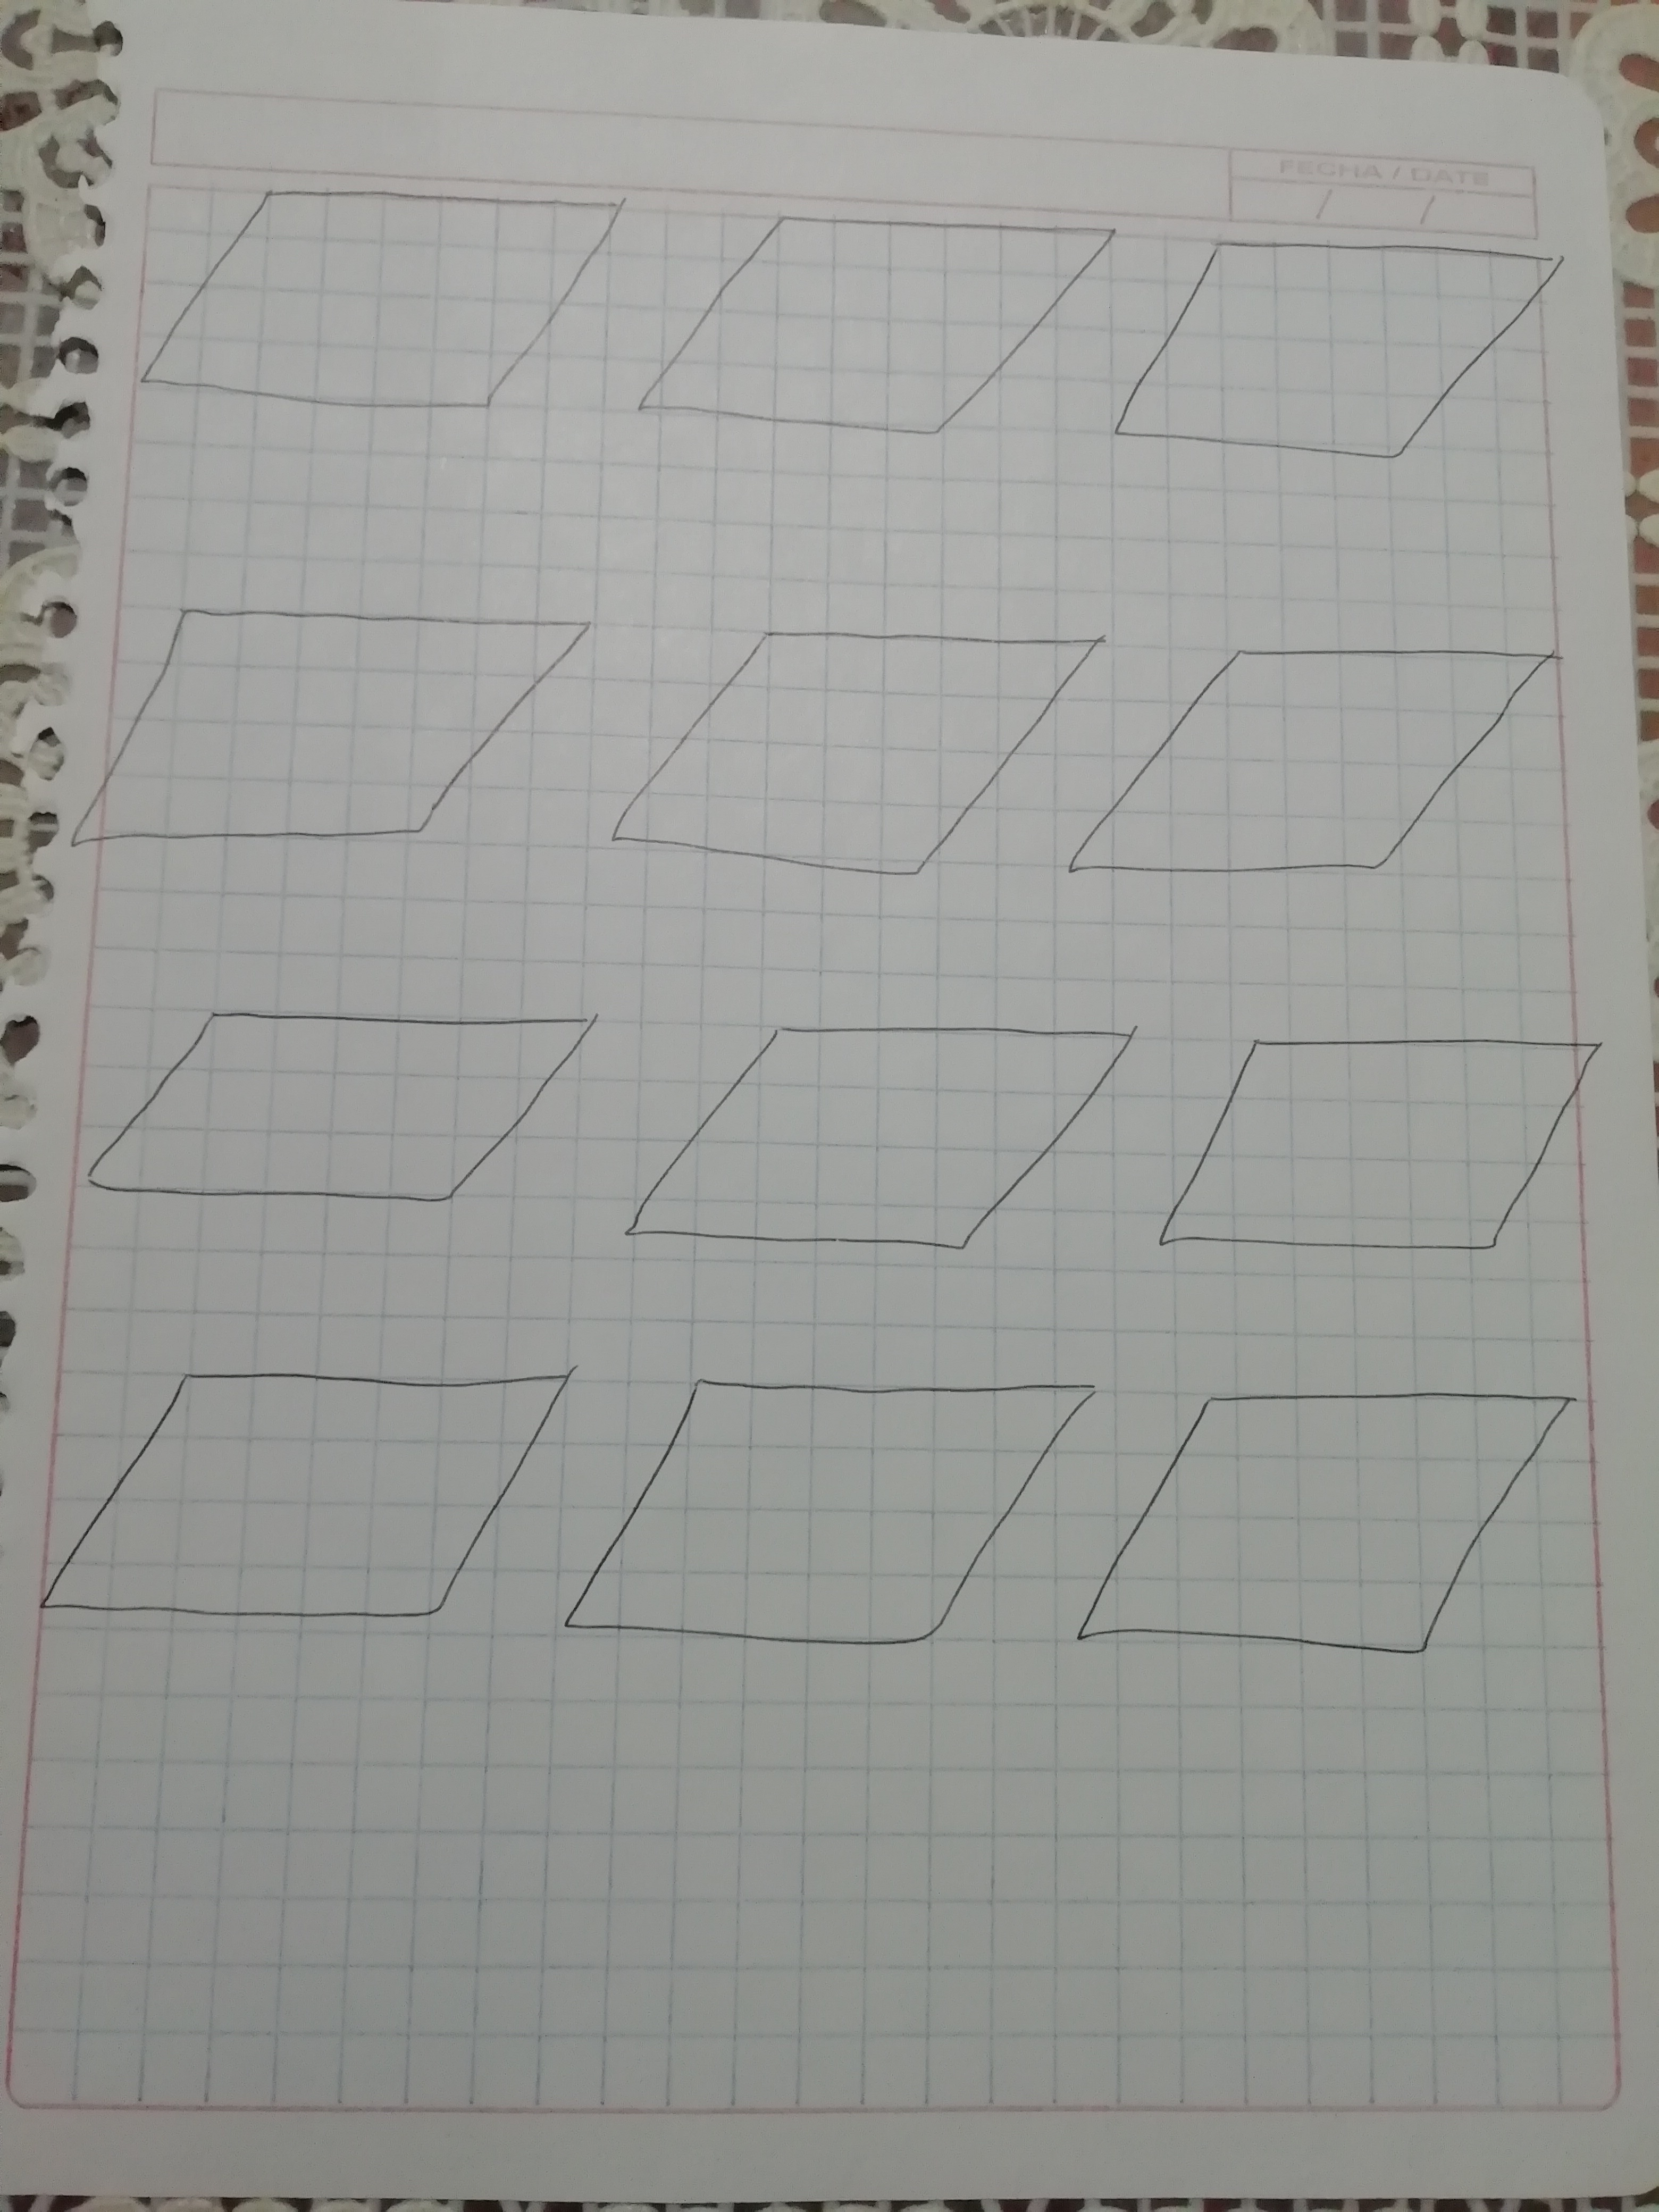scan: (563, 1357, 1089, 1679), (71, 582, 601, 883), (1079, 1364, 1577, 1683), (59, 1336, 570, 1646), (1068, 606, 1570, 918), (136, 167, 629, 465), (610, 610, 1108, 904), (61, 975, 605, 1244), (615, 1003, 1150, 1273), (1115, 188, 1593, 475), (629, 199, 1115, 460), (1154, 1010, 1612, 1277)
